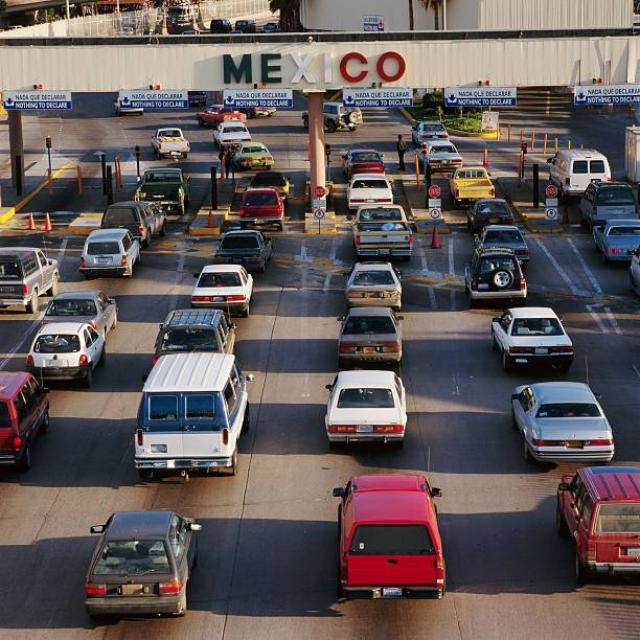moderate_traffic: (47, 169, 613, 622)
